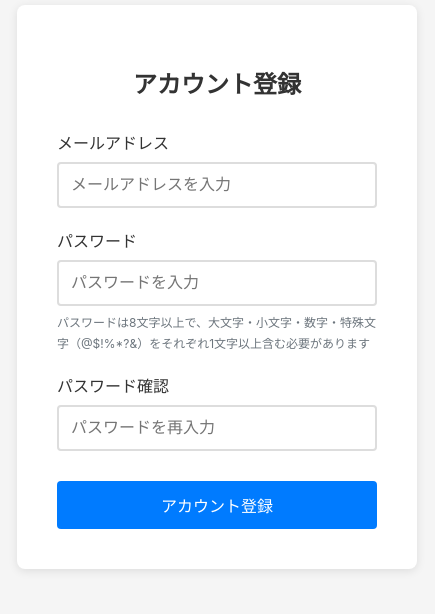
Test case: RegisterForm › shows password strength indicator
# Test weak password
Type "weak" into the password field labelled "パスワード". click: coordinates (217, 283)
box: [57,260,377,306]
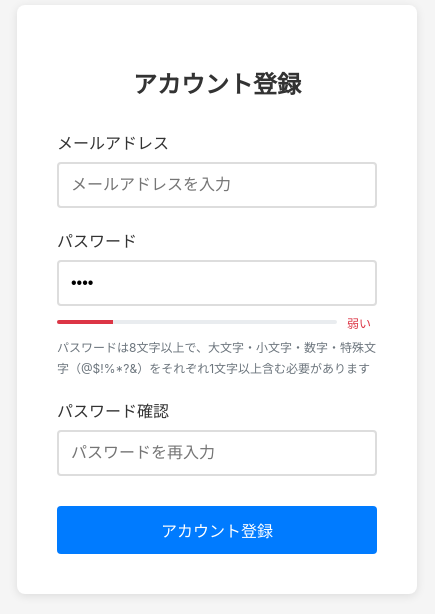
Result: the text "弱い" is shown at [347,316,371,331]
# Test very strong password (includes special character)
Type "StrongPassword123!" into the password field labelled "パスワード". click: coordinates (217, 283)
box: [57,260,377,306]
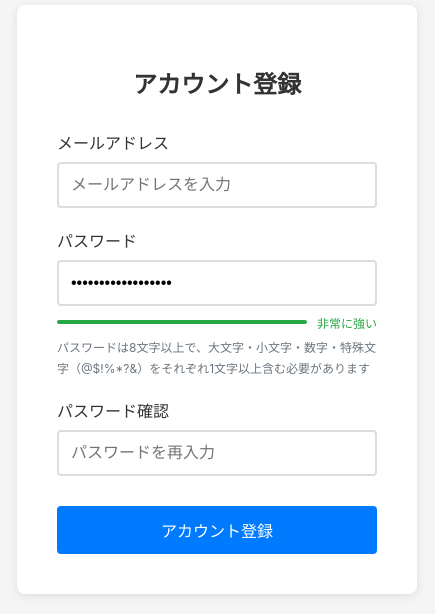
Result: the text "非常に強い" is shown at [317,314,377,331]
